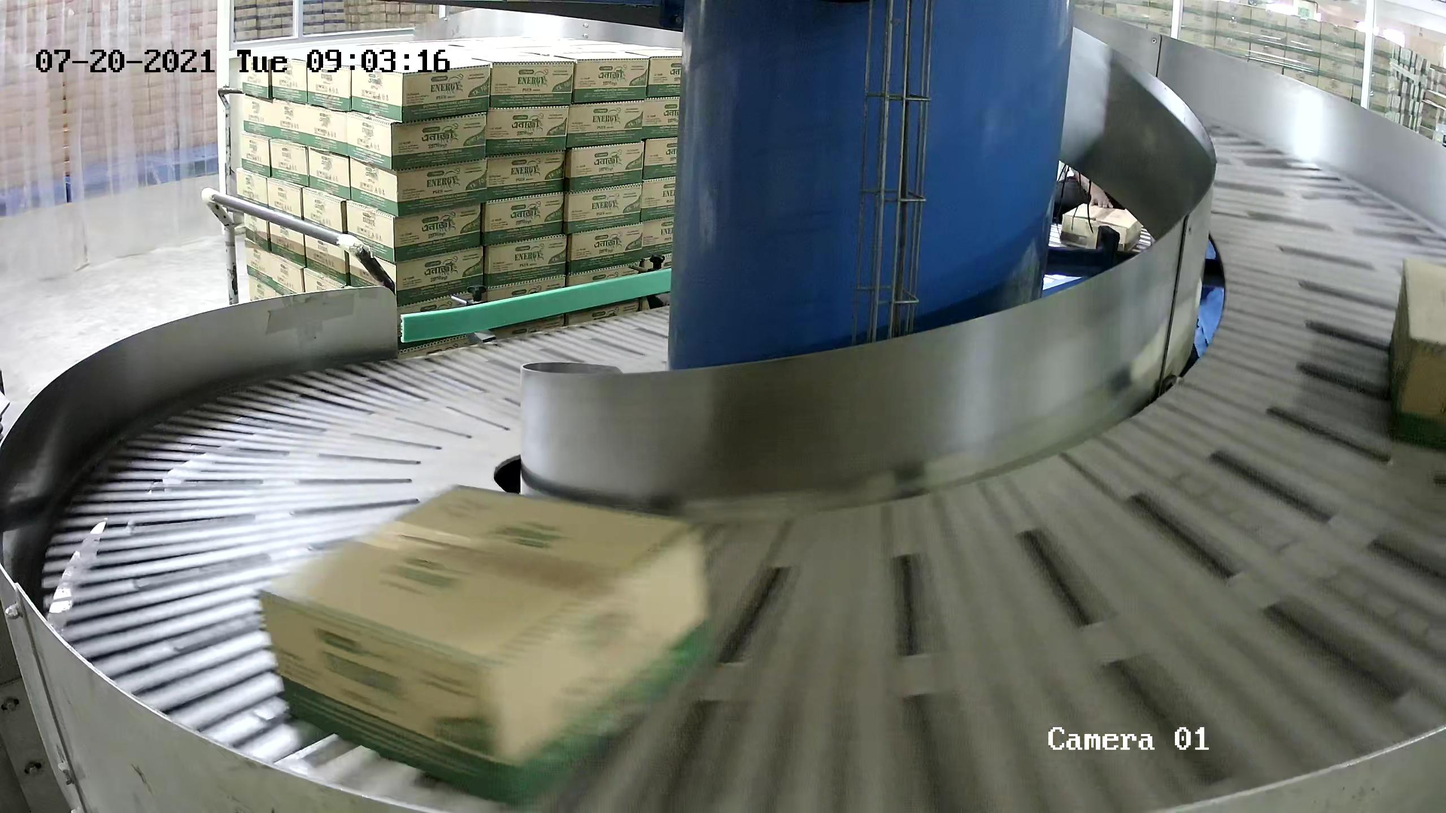Box: (255, 480, 714, 804), (1386, 255, 1446, 444)
